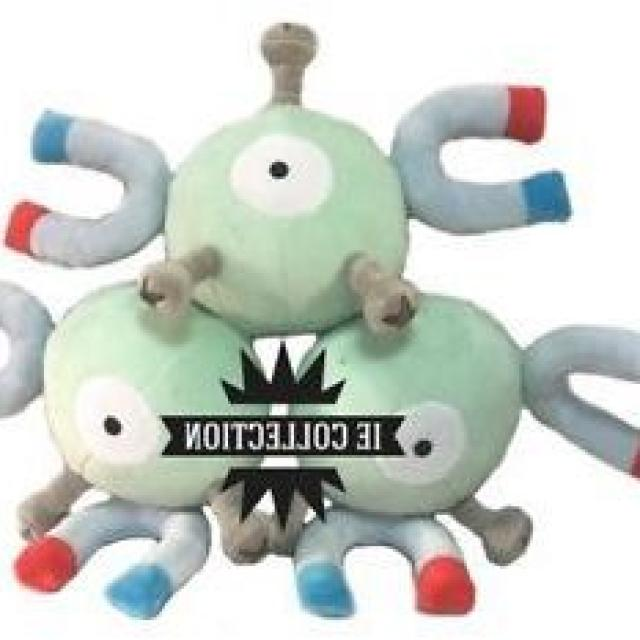Magneton: (8, 77, 600, 609)
